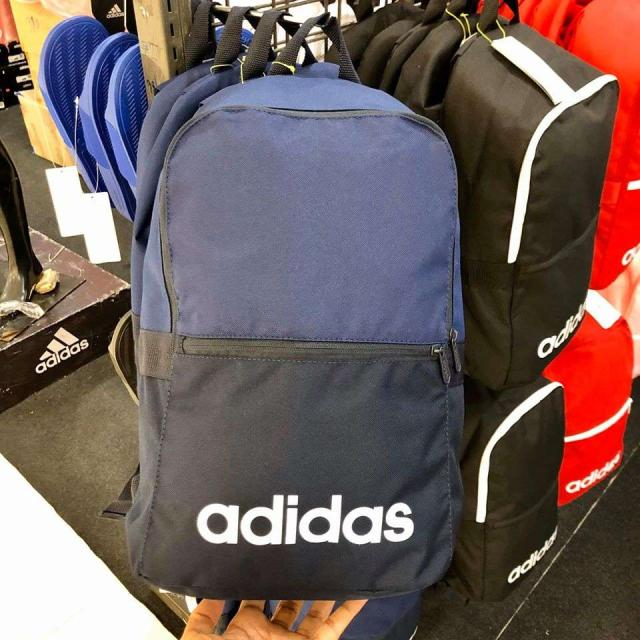handbag: (104, 10, 472, 620)
